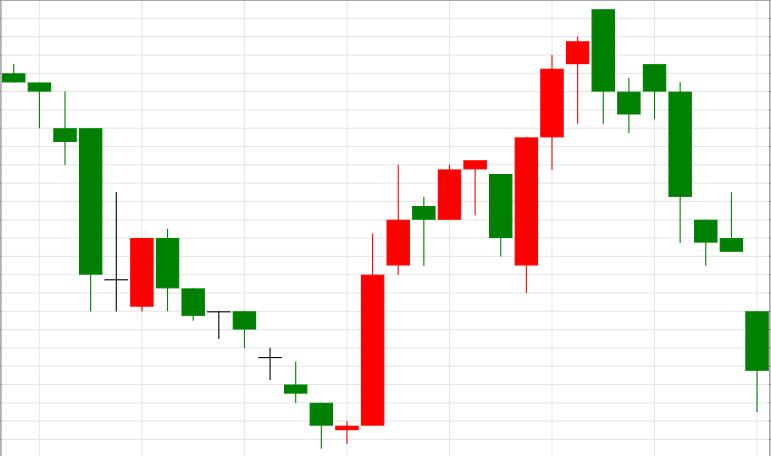bearish_engulfing_fall: (388, 9, 614, 293)
morning_star_rise: (156, 228, 384, 448)
